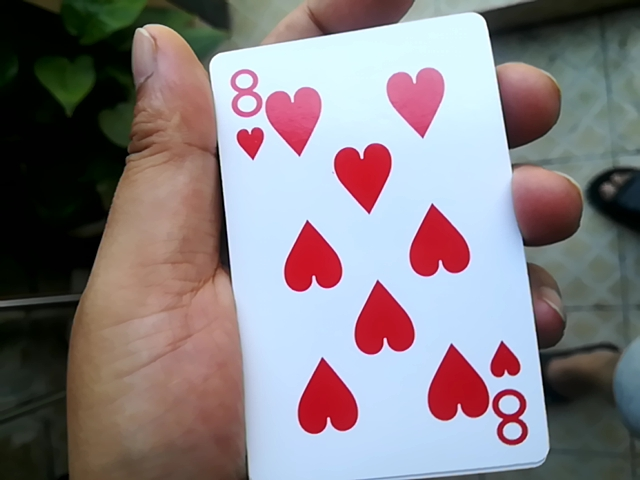hx 8: (200, 26, 551, 475)
